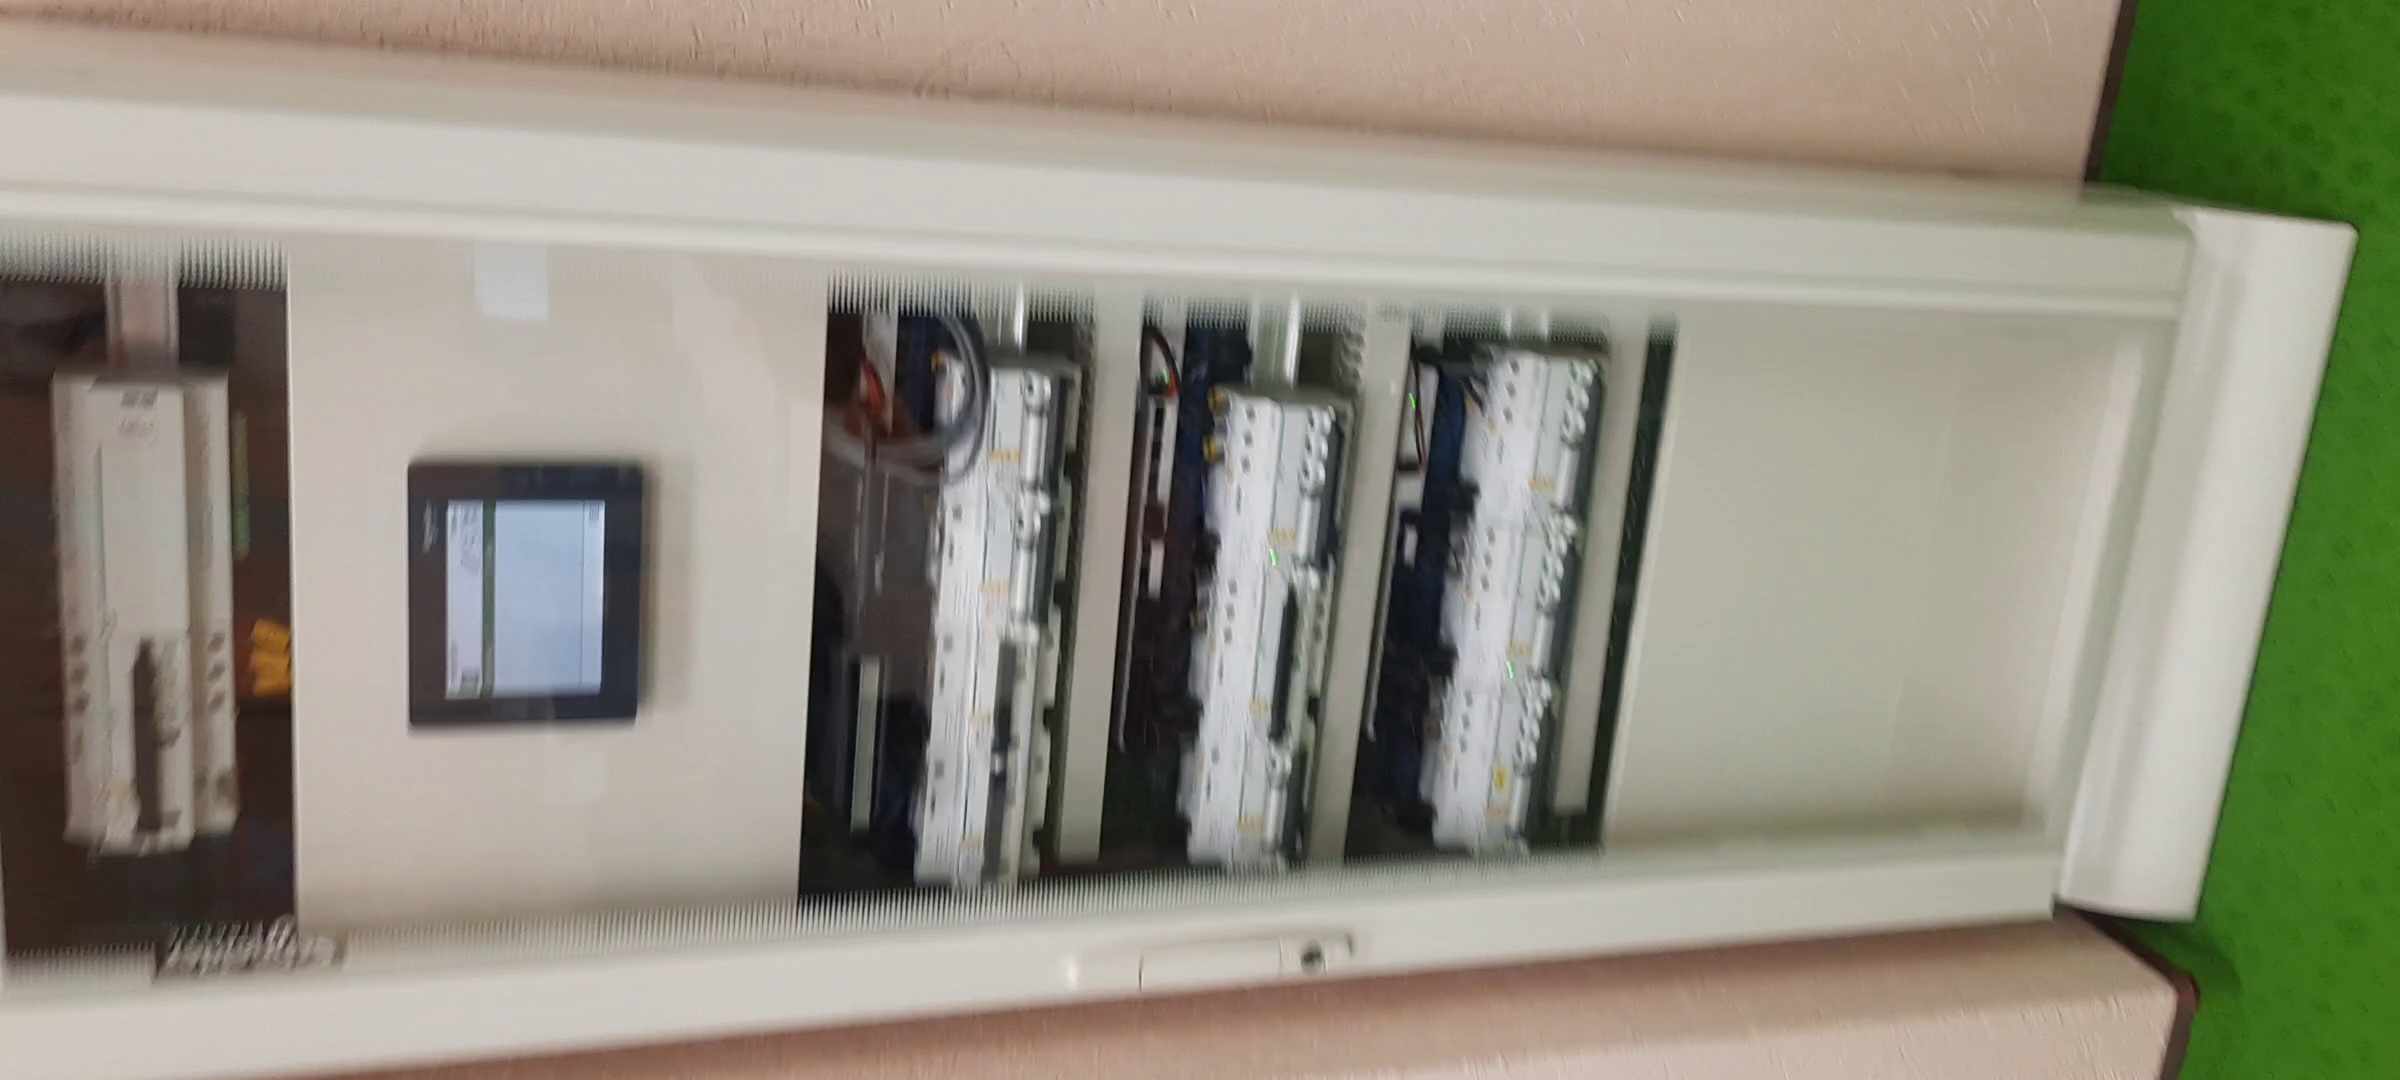smart_stand: (2, 63, 2264, 1080)
